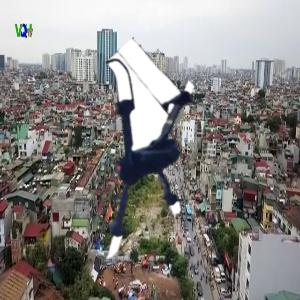drone: (43, 68, 234, 259)
